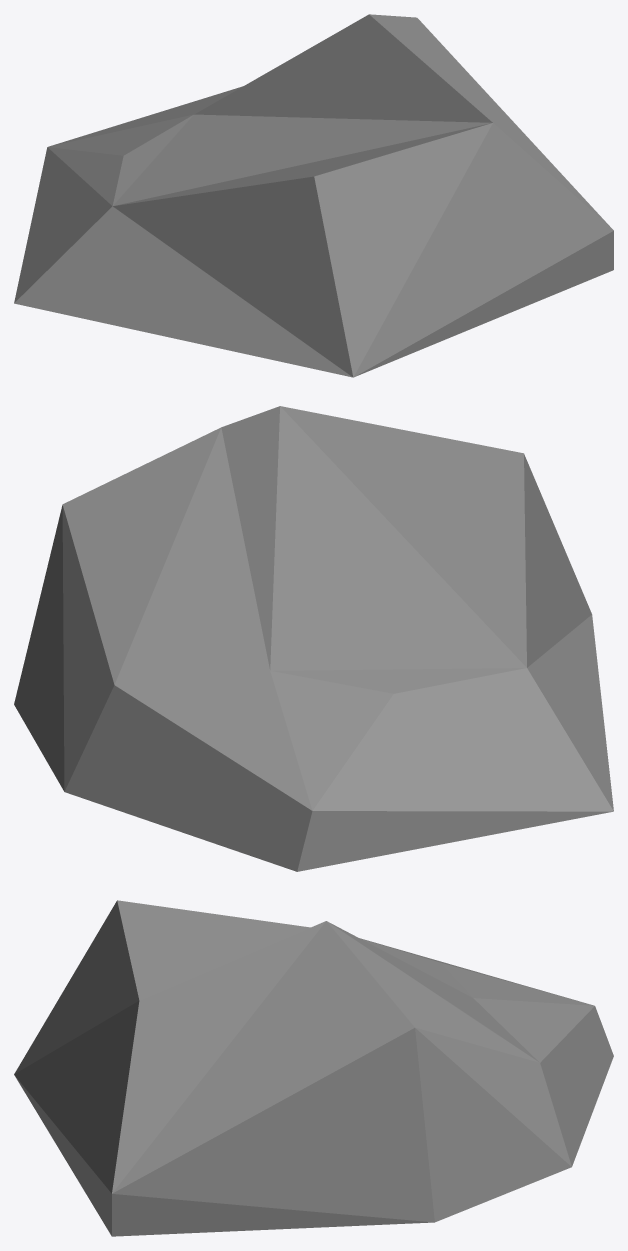
Rendered from Stone_B_11.FBX.
3 renders of one model, top to bottom at view 1: azimuth 30°, elevation 25°; view 2: azimuth 150°, elevation 25°; view 3: azimuth 270°, elevation 25°, orthographic. The views are drawn at different scales.
Visible parts, largest first — view 1: Stone_B_11; view 2: Stone_B_11; view 3: Stone_B_11.
Boxes of the visible parts, box(x1,y1,x2,y2) form: Stone_B_11: box(14, 14, 613, 377); Stone_B_11: box(14, 406, 613, 871); Stone_B_11: box(14, 900, 613, 1236).
Size of the model in its own units: 2.03 by 0.8771 by 2.
